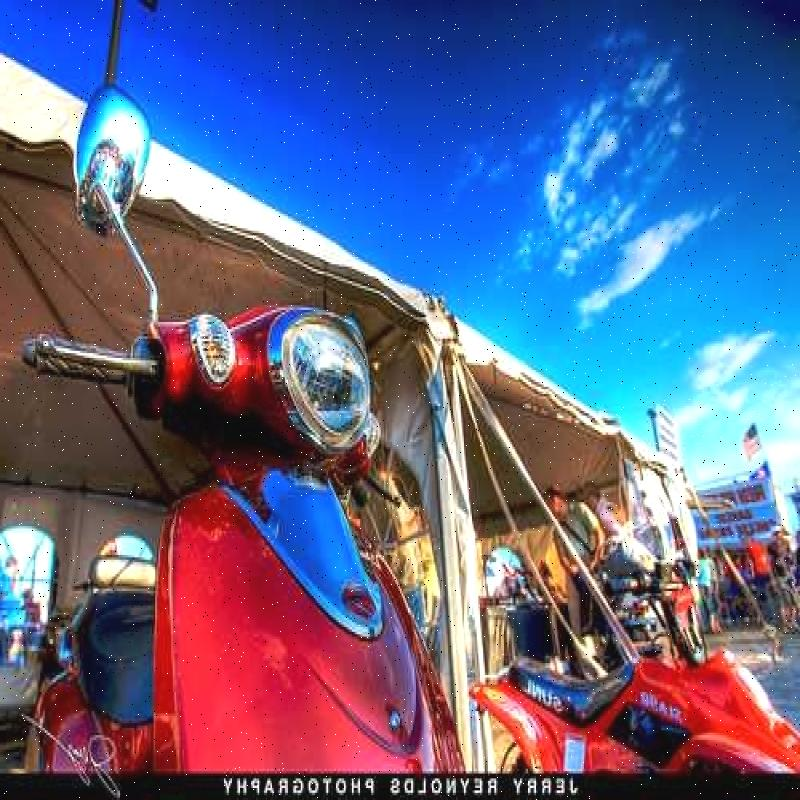bike: (6, 133, 485, 771)
